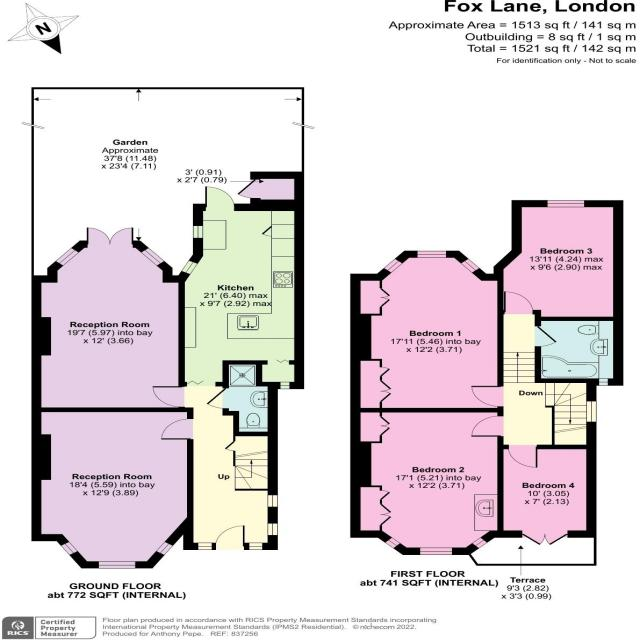DOOR: (204, 185, 236, 211), (151, 385, 187, 408), (469, 385, 504, 408), (503, 290, 534, 315), (214, 525, 245, 550), (470, 415, 504, 437), (160, 418, 194, 440), (507, 444, 538, 468), (204, 387, 229, 409), (534, 325, 558, 347)
DOUBLE DOOR: (87, 227, 134, 248)
ROOM: (31, 407, 194, 569), (177, 186, 305, 389), (350, 250, 504, 413), (350, 408, 504, 555), (493, 200, 624, 321), (497, 444, 597, 546)
WINDOW: (54, 247, 80, 267), (140, 247, 166, 267), (546, 200, 585, 208), (98, 561, 137, 569), (383, 258, 403, 273), (460, 258, 480, 273), (155, 541, 174, 556), (60, 541, 79, 556), (419, 547, 453, 555), (181, 260, 199, 275), (416, 250, 447, 258), (586, 401, 597, 422), (471, 537, 488, 549), (384, 537, 401, 549), (192, 225, 203, 239), (267, 523, 278, 536), (267, 495, 278, 508), (197, 542, 212, 551), (248, 542, 263, 550), (279, 381, 290, 389)
